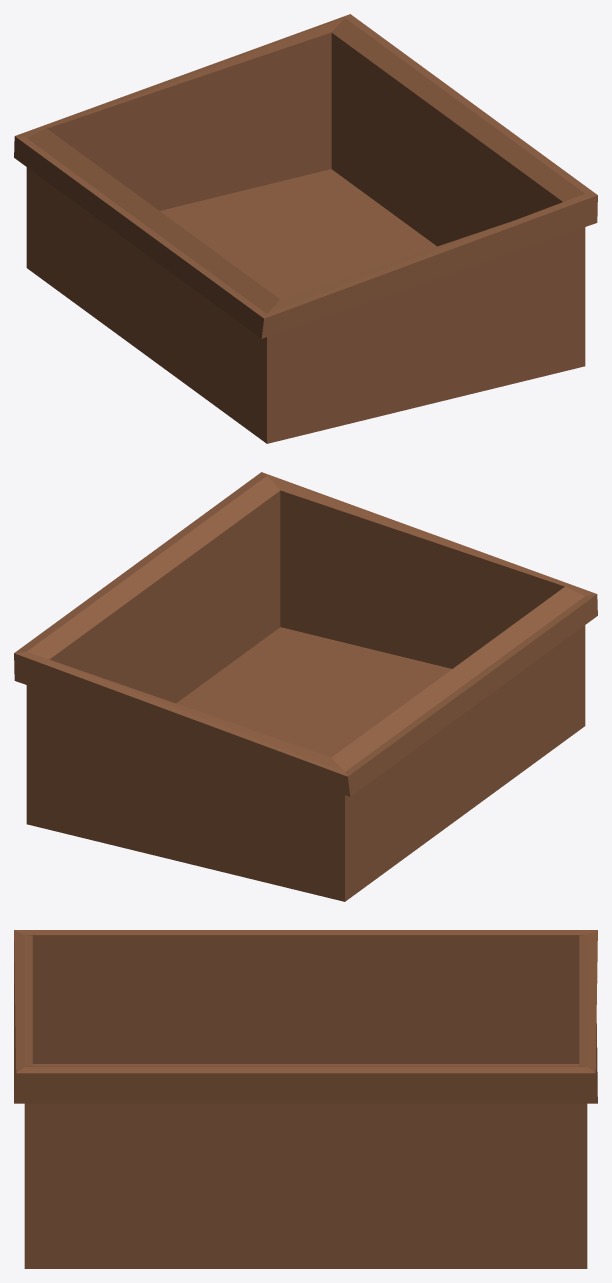
The model's file is crate03.fbx.
The picture shows the model from 3 angles, top to bottom: view 1: azimuth 30°, elevation 25°; view 2: azimuth 150°, elevation 25°; view 3: azimuth 270°, elevation 25°; orthographic projection. The views are drawn at different scales.
Parts seen in each view (by area): view 1: crate03; view 2: crate03; view 3: crate03.
Boxes of the visible parts, x1,y1,x2,y2 form: crate03: (14,14,597,443); crate03: (14,472,597,901); crate03: (14,930,597,1268).
Bounding box in the file's own units: 43.88 × 21.51 × 56.36.
Materials: 1 (1 with a texture image).
